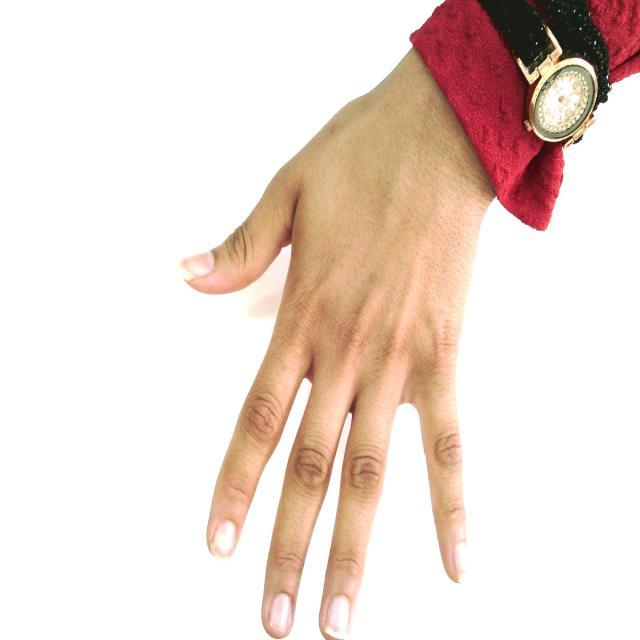Fingernail: (325, 595, 350, 639), (180, 251, 215, 281), (212, 521, 237, 558), (268, 595, 291, 631), (455, 543, 474, 583)
